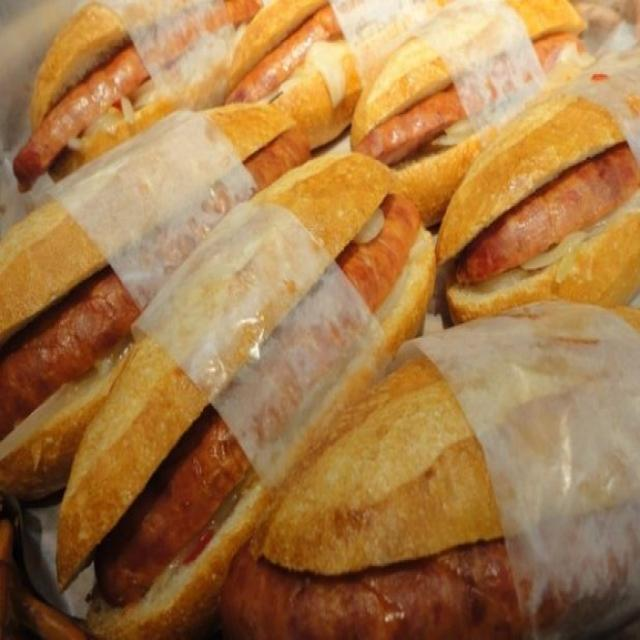面包点心: (20, 28, 598, 591)
